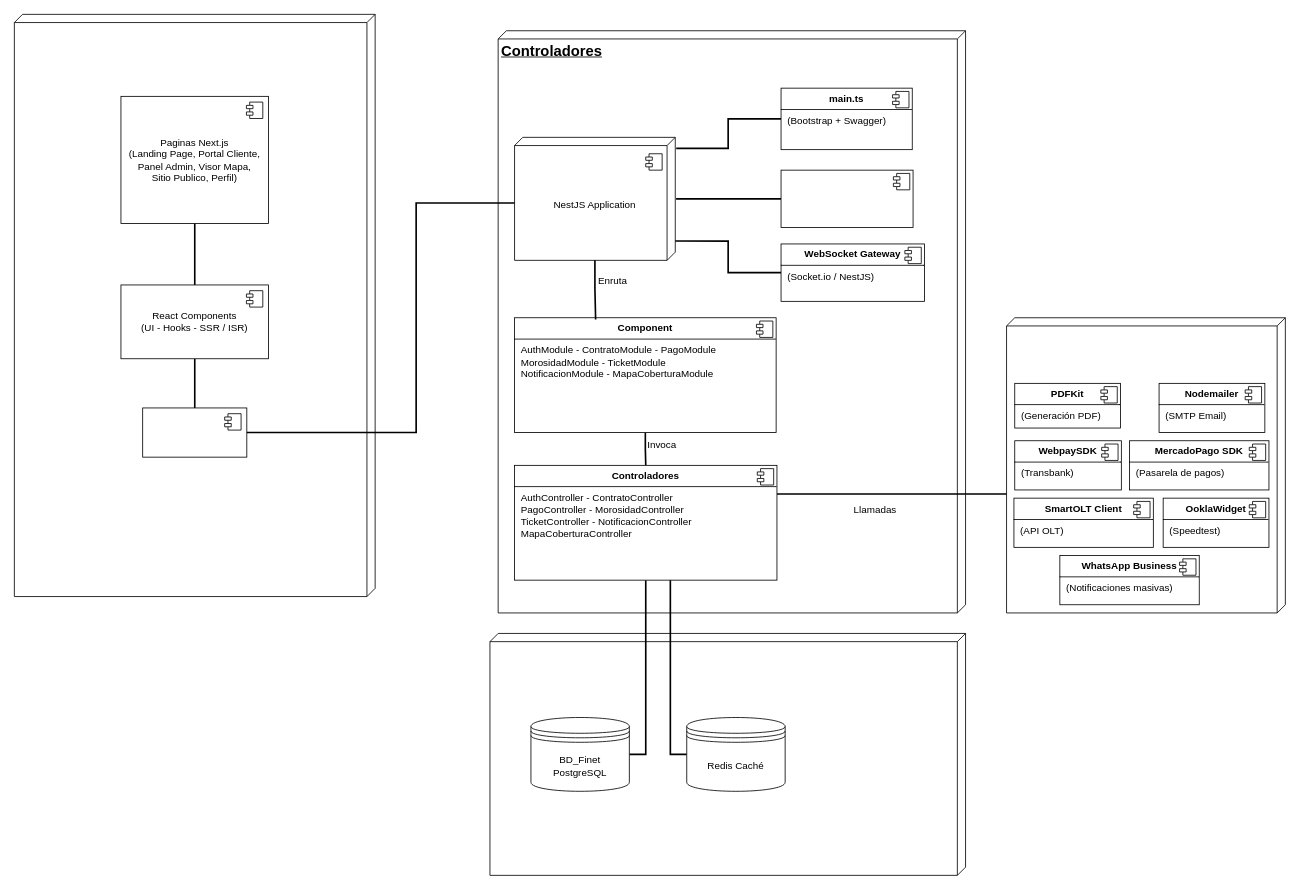
Some shapes in this 1300 by 890 pixel diagram are drawn without their labels. Here are the shapes that lost their labels. From the top down, the box of each, then its label:
(514, 137, 675, 260): API REST
(780, 169, 913, 228): AuthGuard (JWT + Rate Limiting)
(14, 14, 375, 597): Vista
(142, 407, 247, 457): HTTP/JSON
(1006, 317, 1285, 613): Servicios Externos
(489, 633, 966, 875): Base de datos / Tablas
